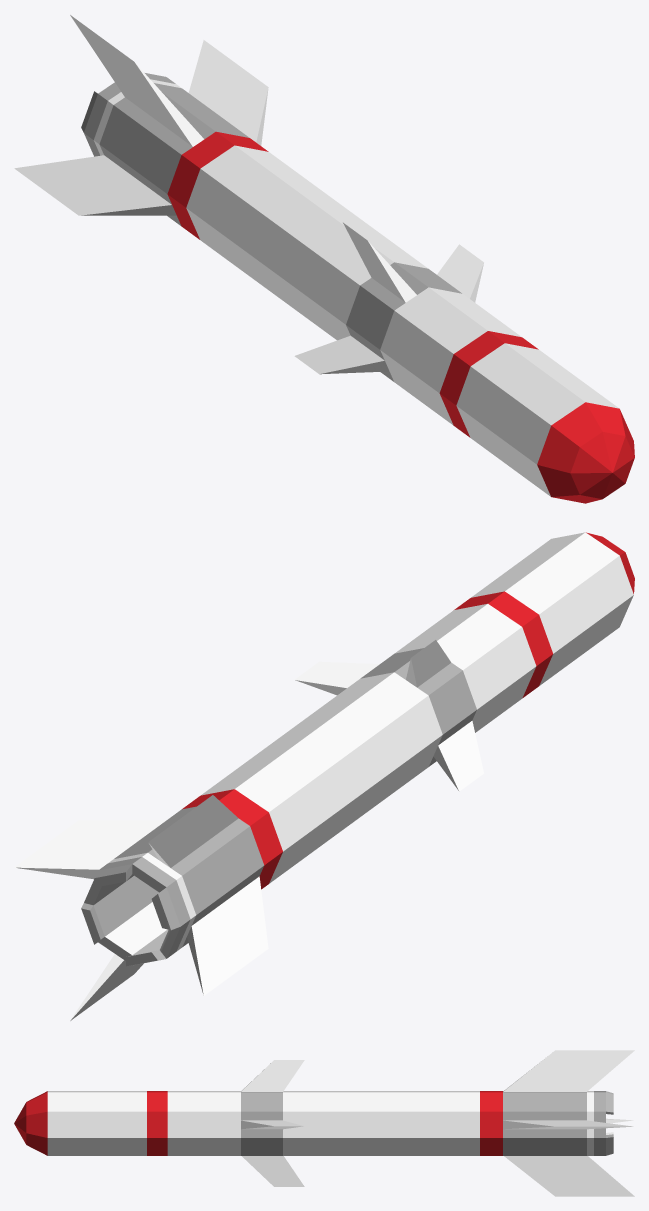
Rendered from missile.fbx.
3 renders of one model, top to bottom at view 1: azimuth 30°, elevation 25°; view 2: azimuth 150°, elevation 25°; view 3: azimuth 270°, elevation 25°, orthographic. The views are drawn at different scales.
Visible parts, largest first — view 1: Missile; view 2: Missile; view 3: Missile.
Boxes of the visible parts, bbox=[...] form: Missile: bbox=[14, 15, 634, 503]; Missile: bbox=[14, 532, 634, 1020]; Missile: bbox=[14, 1050, 634, 1196].
Bounding box in the file's own units: 5.88 × 5.88 × 27.03.
Materials: 1 (1 with a texture image).
